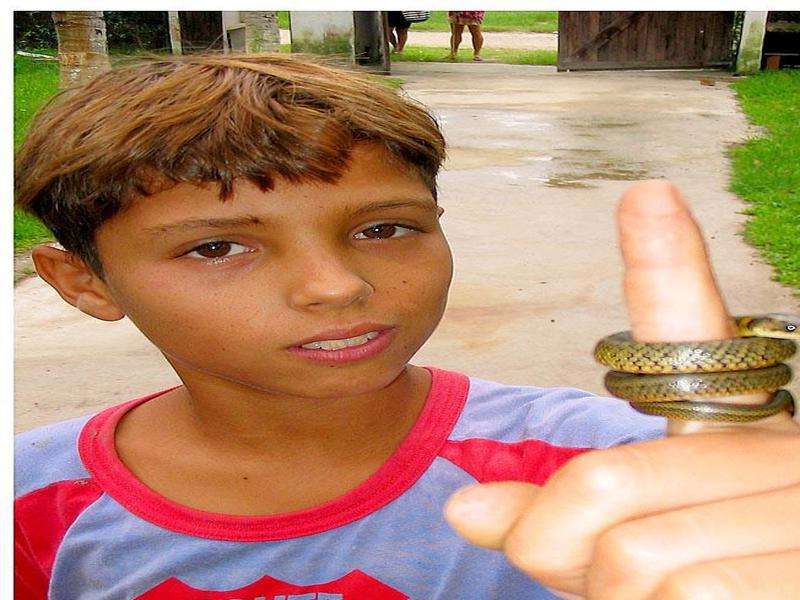person: (24, 49, 796, 600)
